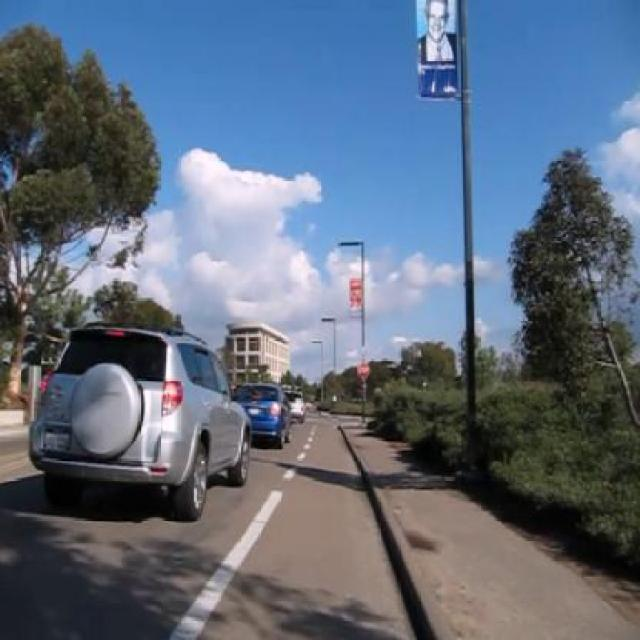stop: (357, 362, 370, 380)
